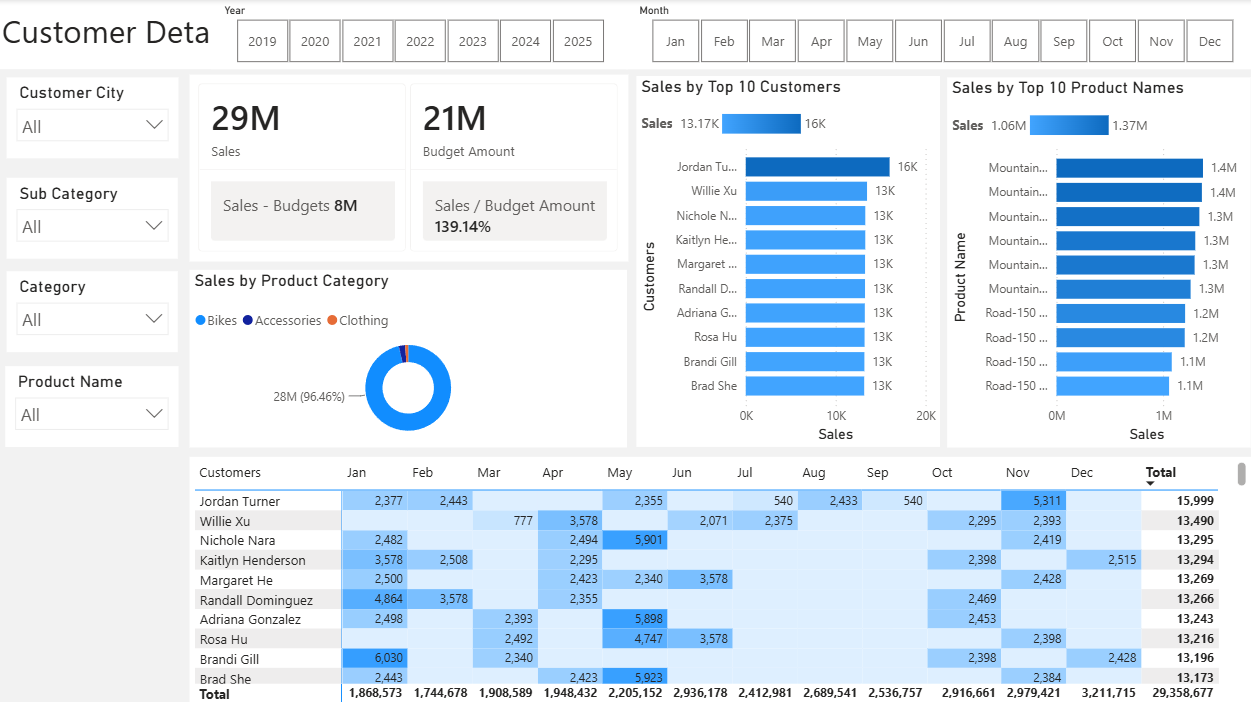

What the dashboard file says about the page in this screenshot:
{"tool":"powerbi","page":{"name":"Customer Details","canvas":[1280,720],"ordinal":1},"visuals":[{"type":"textbox","box":[0,0,1280.7,71.2],"z":0},{"type":"slicer","fields":{"Values":["DIM_Customers.Customer City"]},"box":[9.8,79.6,174.6,82.4],"z":1000},{"type":"slicer","fields":{"Values":["DIM_Products.Sub Category"]},"box":[9.7,182.1,174.1,82.2],"z":2000},{"type":"slicer","fields":{"Values":["DIM_Products.Product Category"]},"box":[9.7,277.2,174.1,82.2],"z":3000},{"type":"slicer","fields":{"Values":["DIM_Products.Product Name"]},"box":[8.1,372.3,175.7,82.2],"z":4000},{"type":"slicer","fields":{"Values":["DIM_Calendar.Year"]},"box":[217.6,0,422.3,70.9],"z":5000},{"type":"slicer","fields":{"Values":["DIM_Calendar.MonthShort"]},"box":[639.9,0,639.9,70.9],"z":6000},{"type":"cardVisual","title":"Sales & Budget Amount","fields":{"Data":["FACT_InternetSales.Sales","FACT_Budget.Budget Amount"]},"box":[195.5,76.8,445.5,189.9],"z":7000},{"type":"donutChart","fields":{"Category":["DIM_Products.Product Category"],"Y":["Key Measures.Sales"]},"box":[195.5,275.1,444.1,180.2],"z":8000},{"type":"barChart","title":"Sales by Top 10 Customers","fields":{"Y":["Key Measures.Sales"],"Category":["DIM_Customers.Full Name"]},"box":[649.4,78.2,308.7,377.1],"z":9000},{"type":"barChart","title":"Sales by Top 10 Product Names","fields":{"Y":["Key Measures.Sales"],"Category":["DIM_Products.Product Name"]},"box":[965.1,79.6,308.7,375.7],"z":10000},{"type":"pivotTable","fields":{"Columns":["DIM_Calendar.MonthShort"],"Rows":["DIM_Customers.Full Name"],"Values":["Key Measures.Sales"]},"box":[195.5,465.1,1078.2,255.6],"z":11000}]}

Visuals, with their boxes in screenshot pixels (x1, y1, x2, y2), scaled from the page's 1280x720 canvas onto the 1251x702 screenshot:
textbox: bbox=(0, 0, 1250, 69)
slicer - DIM_Customers.Customer City: bbox=(10, 78, 180, 158)
slicer - DIM_Products.Sub Category: bbox=(9, 178, 180, 258)
slicer - DIM_Products.Product Category: bbox=(9, 270, 180, 350)
slicer - DIM_Products.Product Name: bbox=(8, 363, 180, 443)
slicer - DIM_Calendar.Year: bbox=(213, 0, 625, 69)
slicer - DIM_Calendar.MonthShort: bbox=(625, 0, 1250, 69)
"Sales & Budget Amount" cardVisual: bbox=(191, 75, 626, 260)
donutChart - DIM_Products.Product Category x Key Measures.Sales: bbox=(191, 268, 625, 444)
"Sales by Top 10 Customers" barChart: bbox=(635, 76, 936, 444)
"Sales by Top 10 Product Names" barChart: bbox=(943, 78, 1245, 444)
pivotTable - DIM_Calendar.MonthShort x DIM_Customers.Full Name: bbox=(191, 453, 1245, 701)
